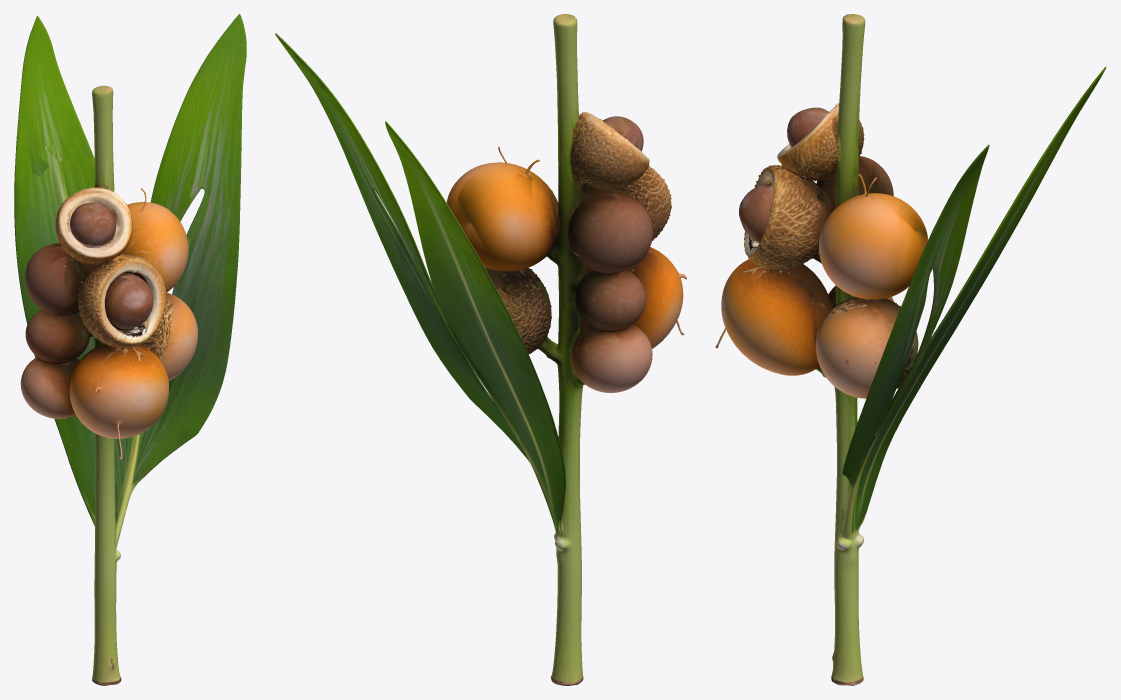
The model's file is binlang.glb.
3 views of the same model, side by side, from view 1: azimuth 30°, elevation 25°; view 2: azimuth 150°, elevation 25°; view 3: azimuth 270°, elevation 25° (orthographic). The views are drawn at different scales.
Parts seen in each view (by area): view 1: node_0; view 2: node_0; view 3: node_0.
Part boxes in pixels (x1,y1,x2,y2): node_0: (14, 14, 246, 685); node_0: (275, 14, 686, 685); node_0: (715, 14, 1106, 685).
Bounding box in the file's own units: 0.5399 × 1.11 × 0.5963.
Materials: 1 (1 with a texture image).
